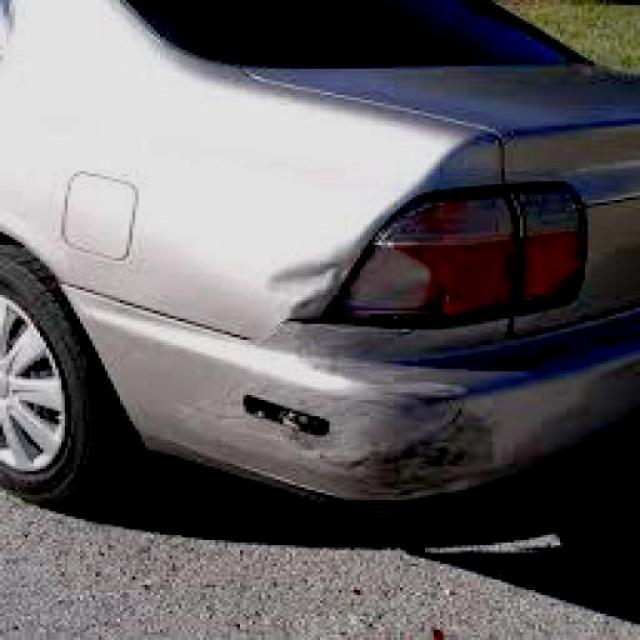car damage: (174, 325, 510, 503), (254, 253, 353, 313)
